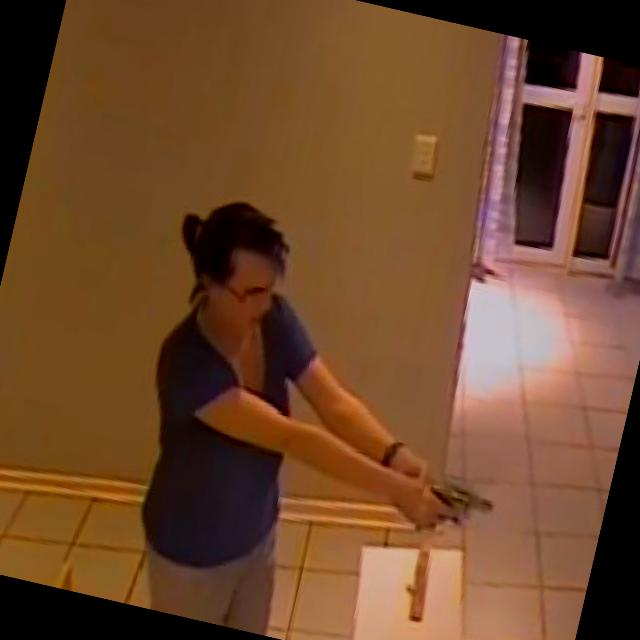Person: (87, 168, 398, 640)
